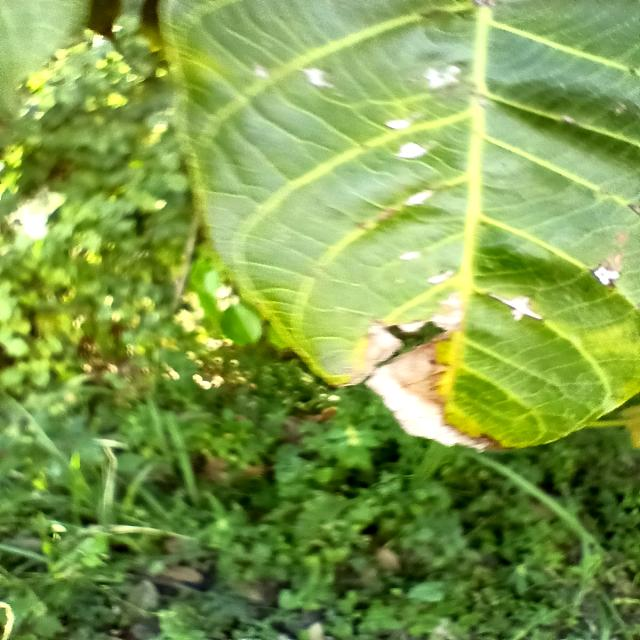Leaf-Blight: (353, 311, 486, 453)
